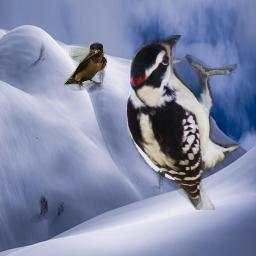Swallow: (64, 42, 107, 91)
Woodpecker: (127, 35, 241, 210)
